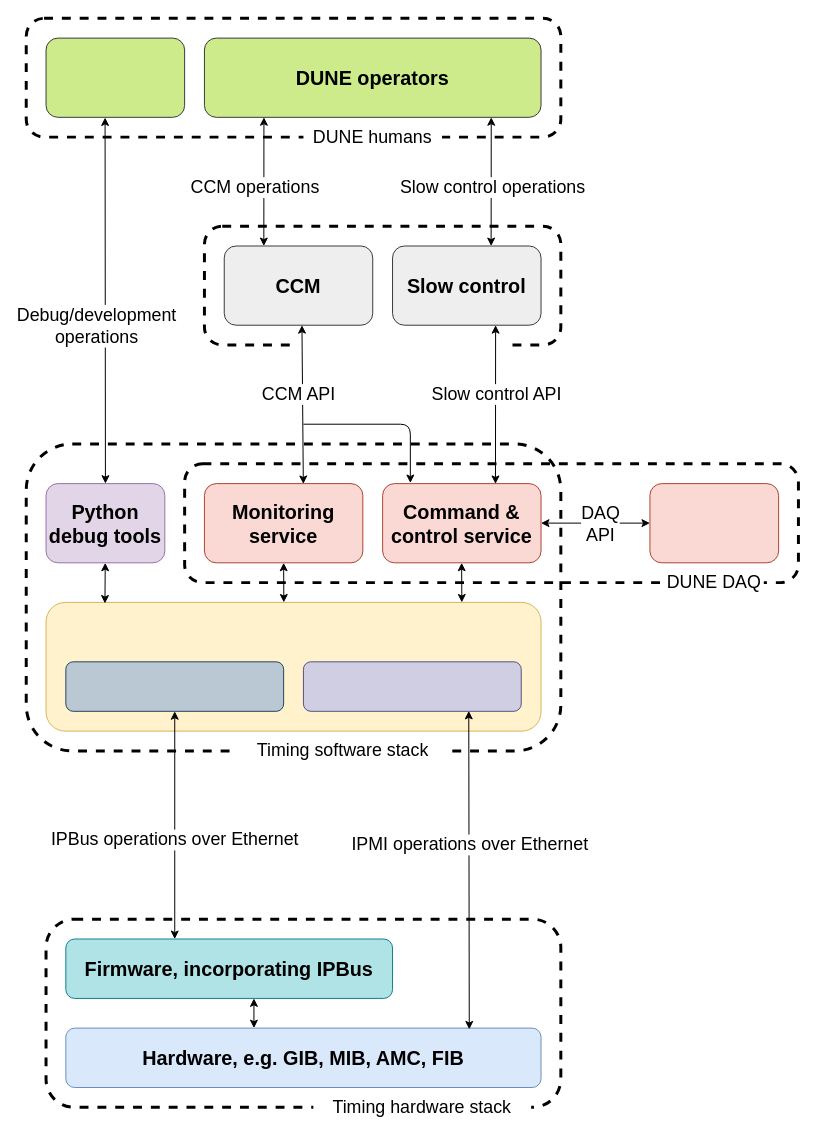
Some shapes in this 818 by 1136 pixel diagram are drawn without their labels. The box of each missing label's shape, as (x1, y1, x2, y2) in pixels:
DUNE applications: (293, 335, 511, 354)
IPBus: (65, 661, 284, 711)
IPMI: (302, 661, 521, 711)
Low-level library: (45, 601, 541, 731)
Rest of DUNE DAQ: (649, 483, 779, 563)
Timing system developer: (45, 37, 185, 117)
